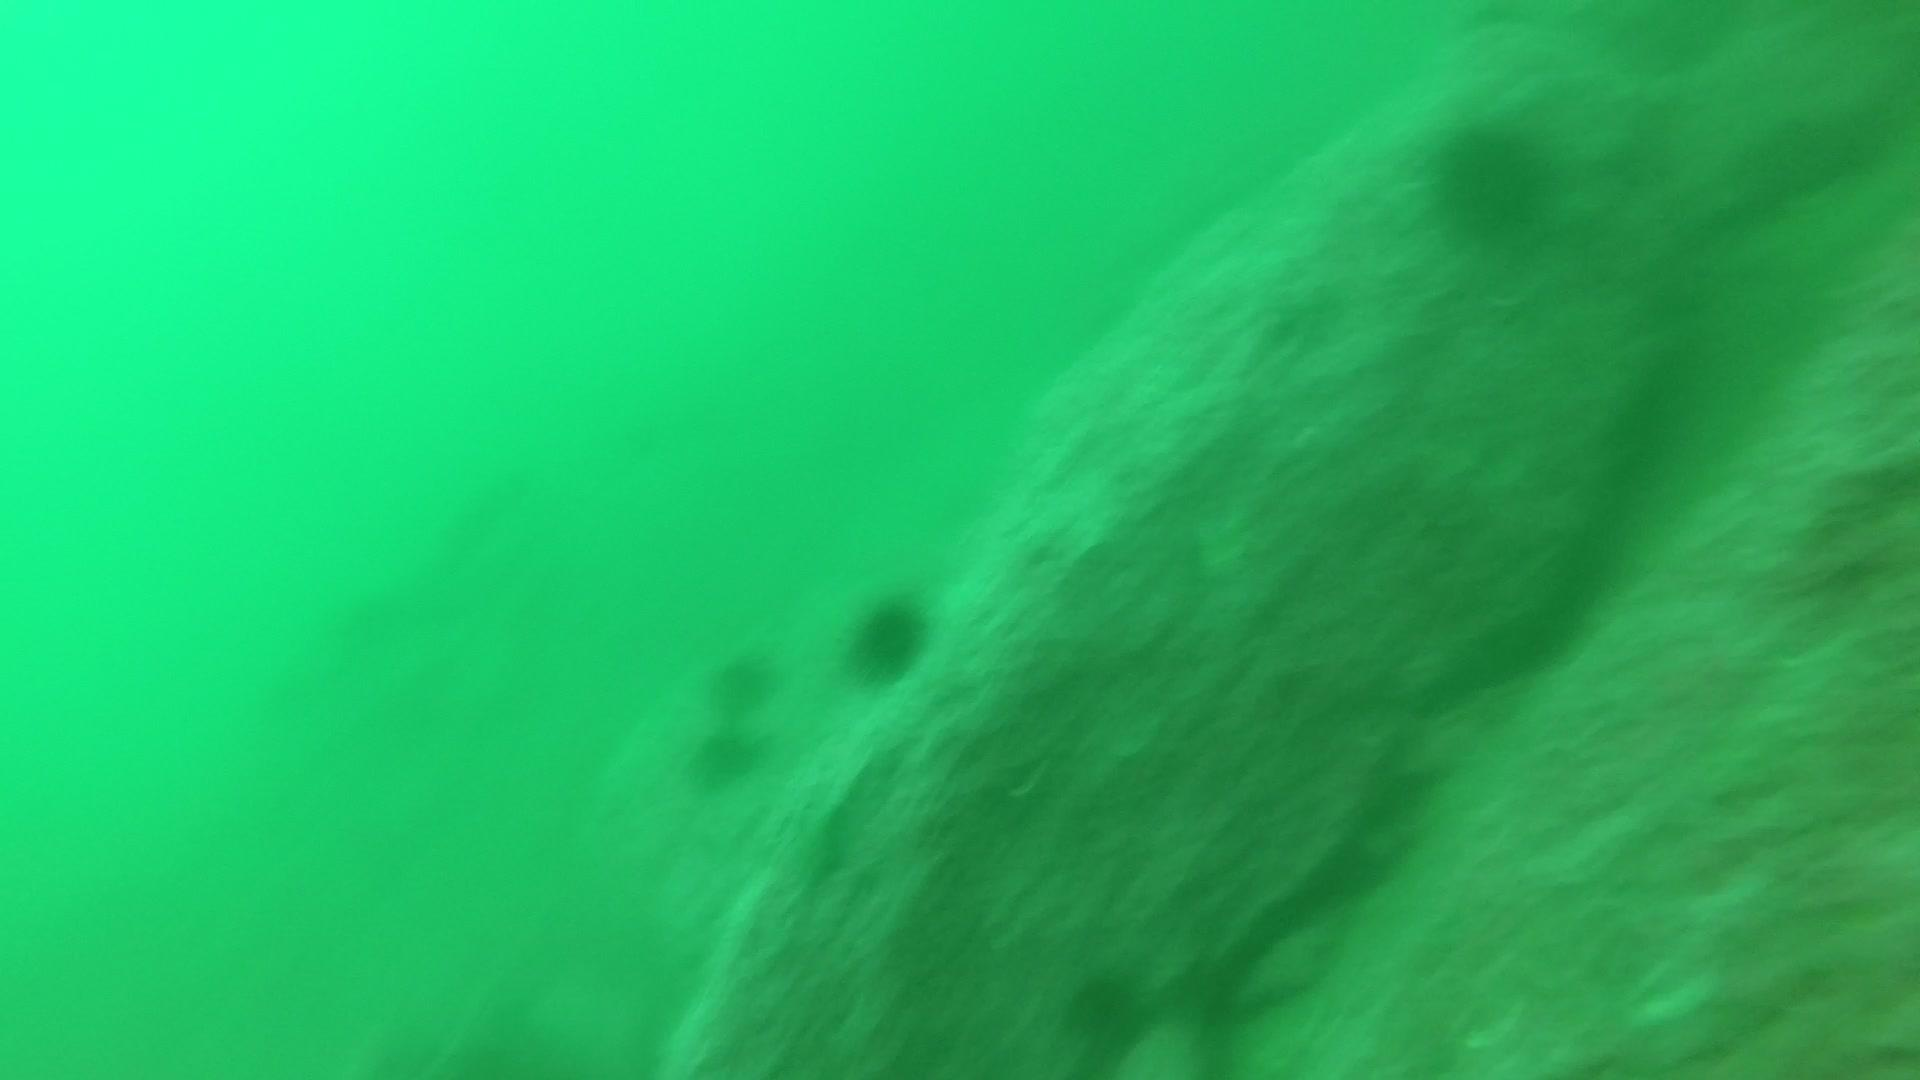echinus: (1423, 109, 1559, 245), (841, 585, 935, 686), (1058, 963, 1155, 1055), (684, 717, 767, 791), (702, 644, 781, 715)
